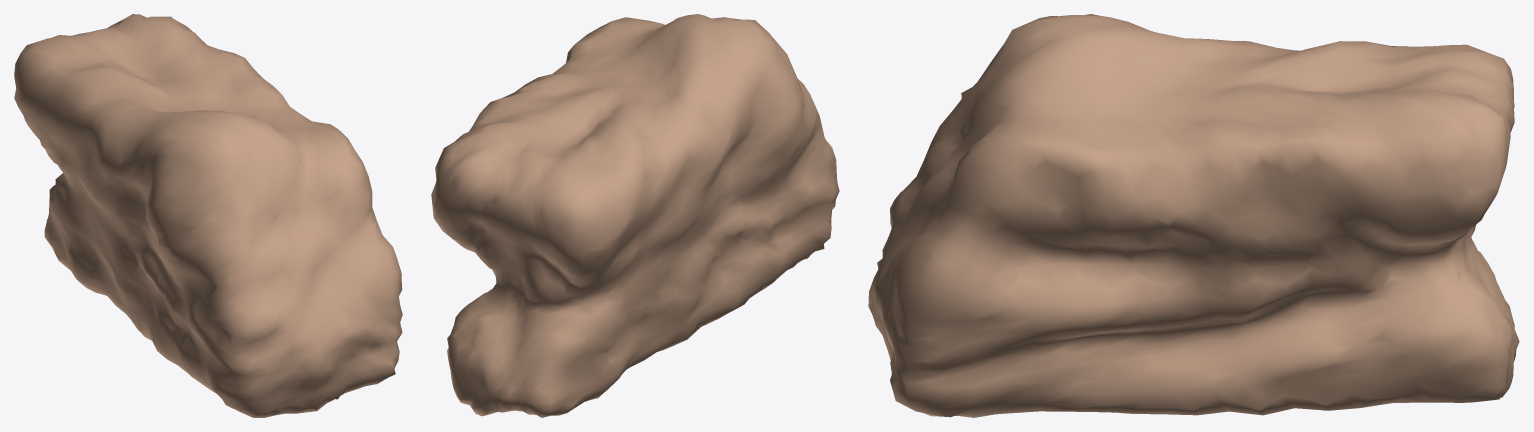
Rendered from Roca1.FBX.
3 views of the same model, side by side, from view 1: azimuth 30°, elevation 25°; view 2: azimuth 150°, elevation 25°; view 3: azimuth 270°, elevation 25° (orthographic). The views are drawn at different scales.
Visible parts, largest first — view 1: Roca1_low; view 2: Roca1_low; view 3: Roca1_low.
Boxes of the visible parts, box(x1,y1,x2,y2) form: Roca1_low: box(14, 14, 402, 417); Roca1_low: box(431, 14, 839, 417); Roca1_low: box(868, 14, 1519, 417).
Size of the model in its own units: 239 by 296 by 501.
